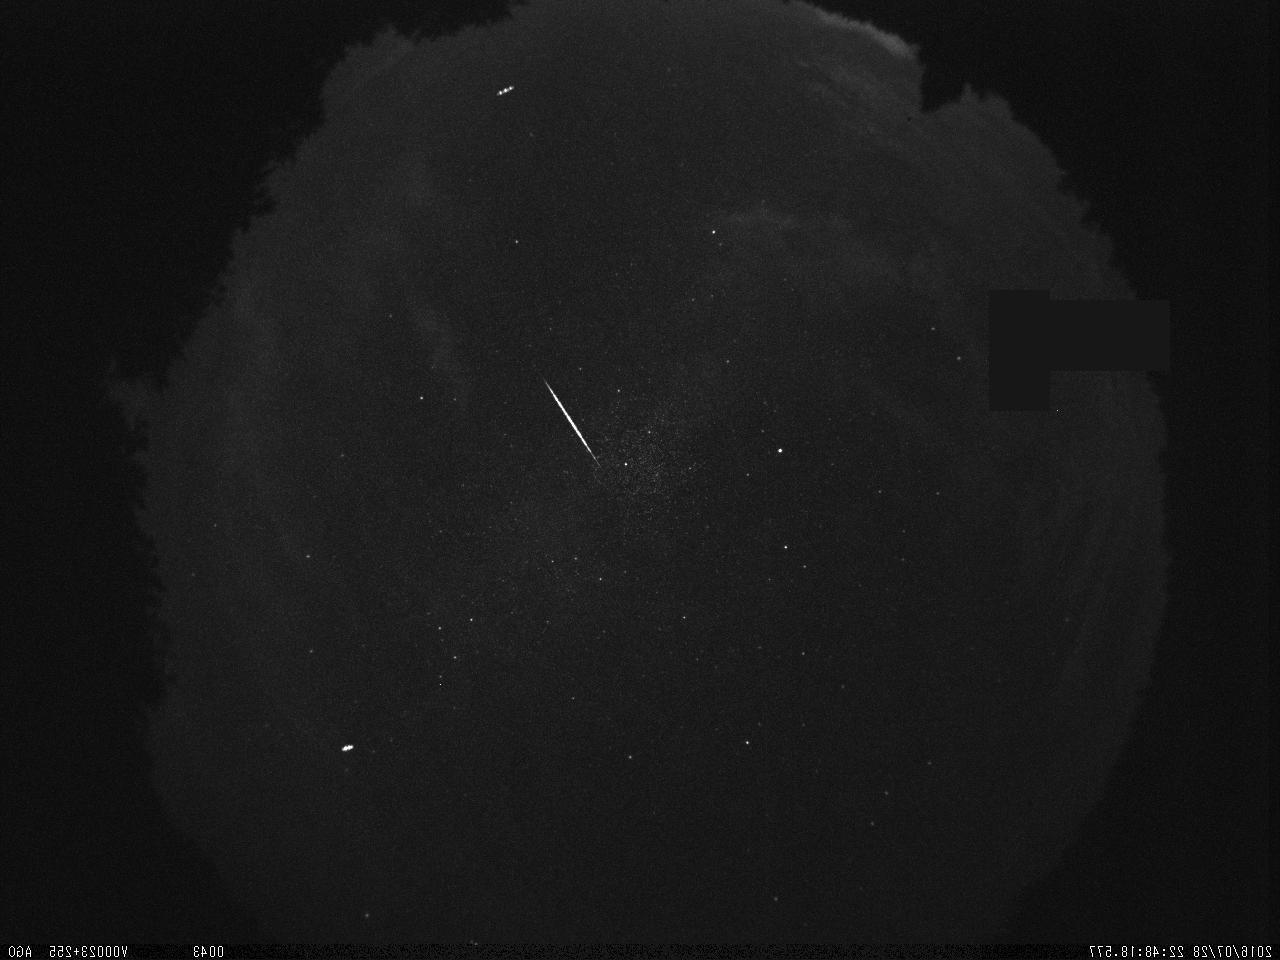meteor: (517, 359, 620, 482)
